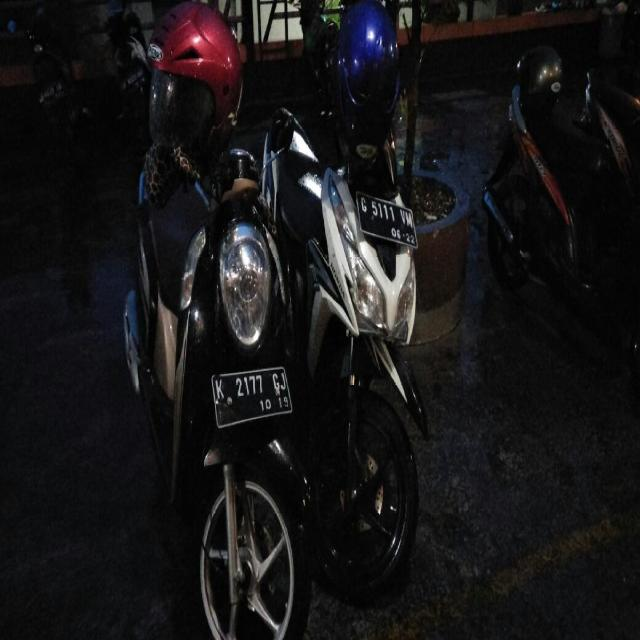plate: (210, 366, 292, 424), (354, 188, 418, 247)
